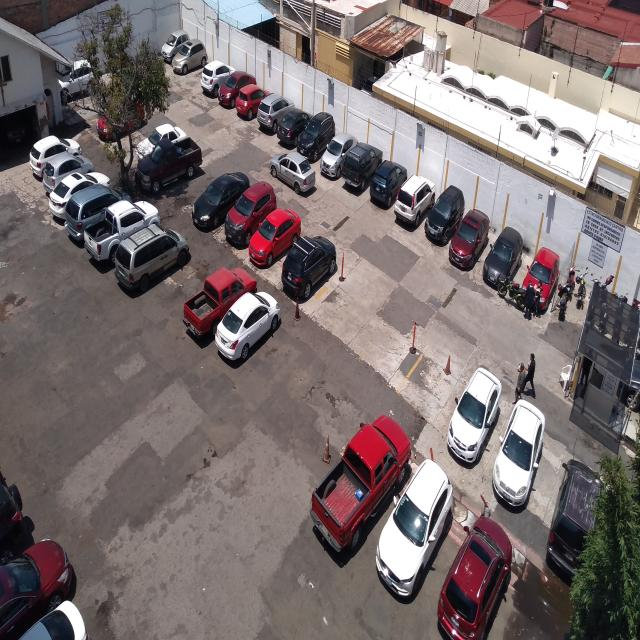libre: (154, 278, 183, 313), (108, 136, 140, 158), (190, 61, 207, 84)
ocupado: (414, 444, 518, 640), (2, 472, 83, 640), (204, 176, 330, 284), (46, 180, 182, 266), (307, 439, 416, 536), (494, 226, 589, 331), (397, 165, 486, 271), (180, 268, 283, 357), (323, 137, 409, 208), (561, 453, 603, 584), (260, 92, 338, 157), (130, 136, 205, 194), (508, 391, 543, 507), (205, 56, 268, 120), (463, 361, 498, 466), (558, 257, 590, 326), (92, 98, 146, 128), (162, 32, 202, 71), (56, 58, 93, 98), (28, 134, 74, 163), (42, 159, 93, 175)
